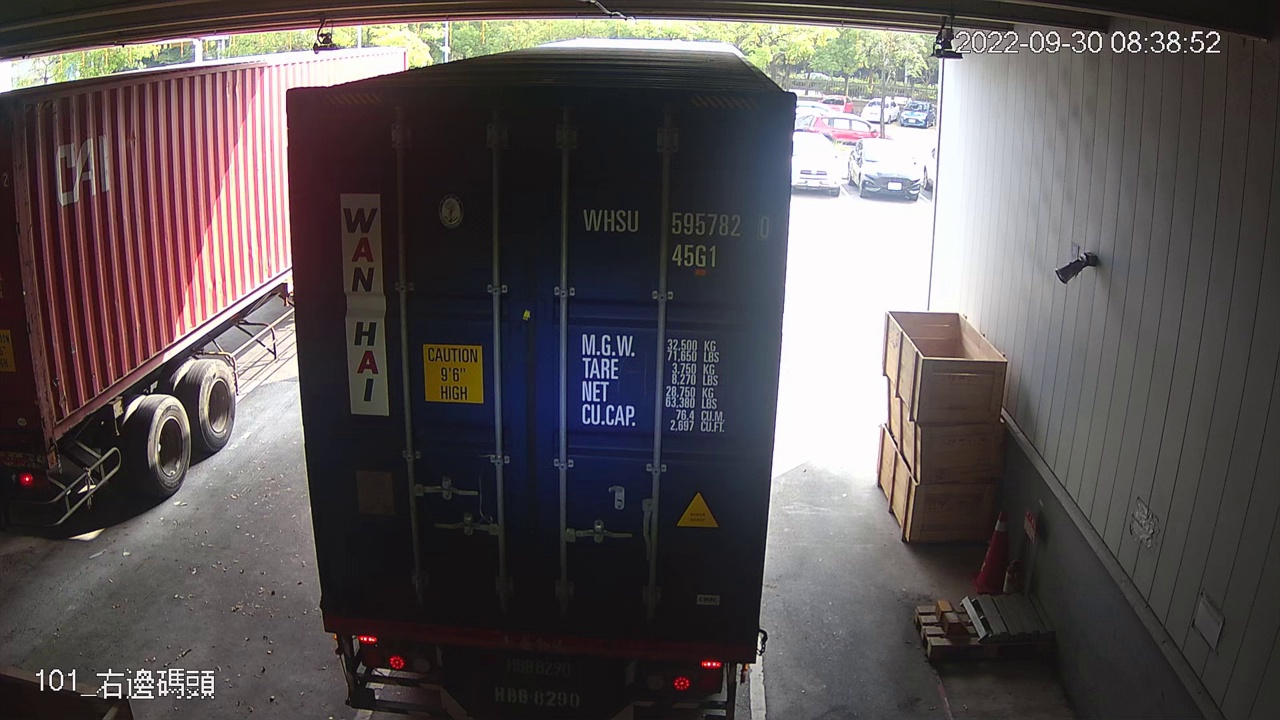container: (576, 203, 775, 270)
